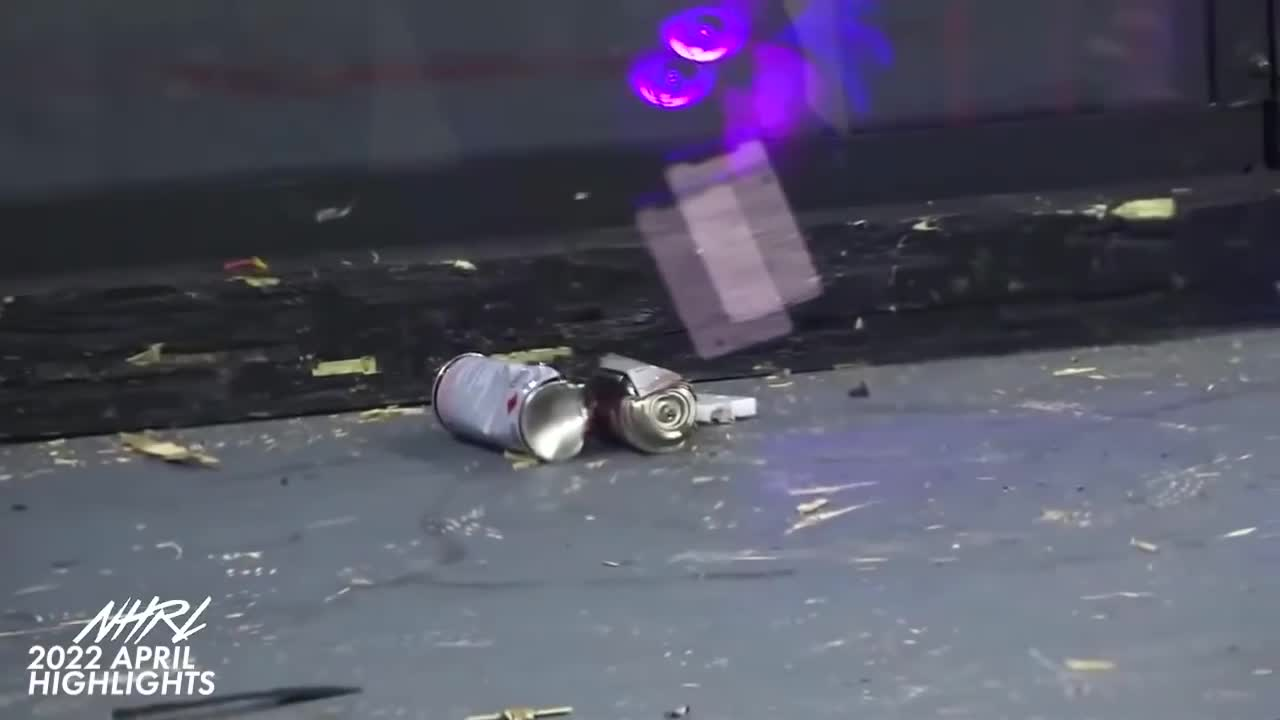debris: (429, 353, 756, 462)
